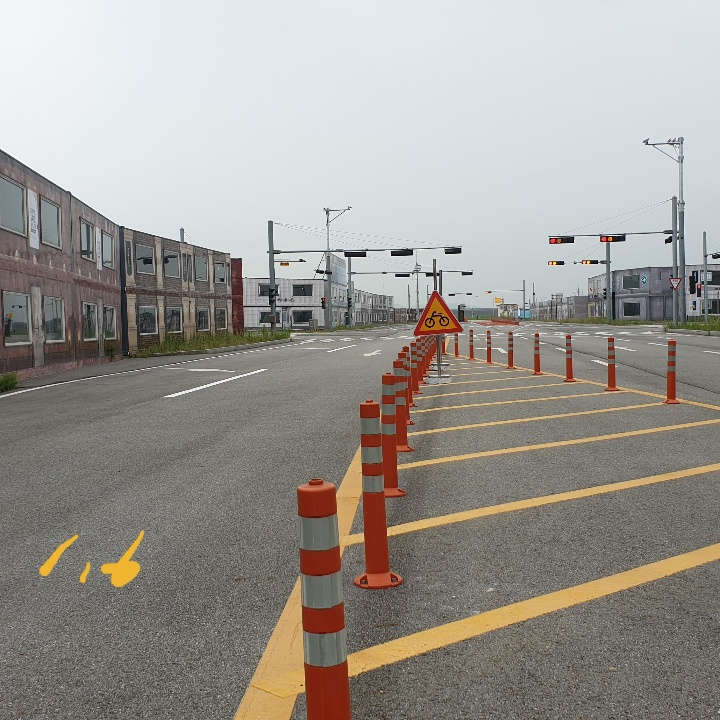bicycle: (412, 292, 463, 335)
